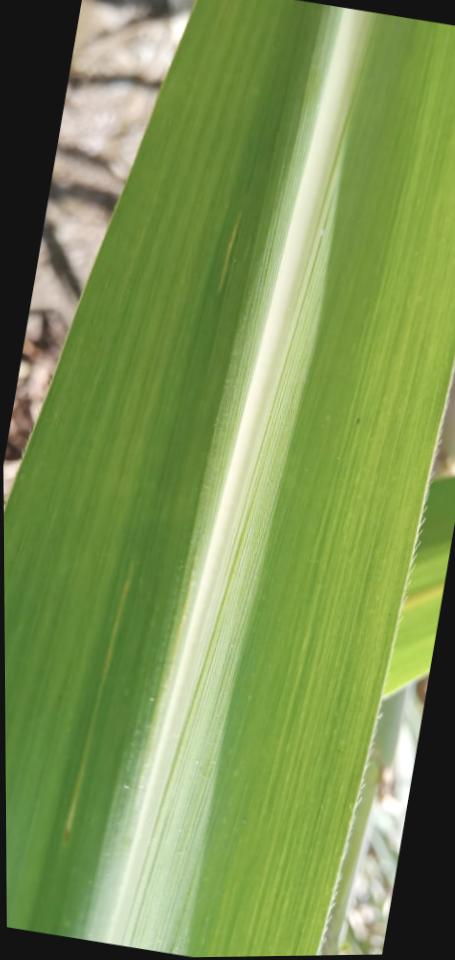Healthy: (4, 0, 455, 957)
